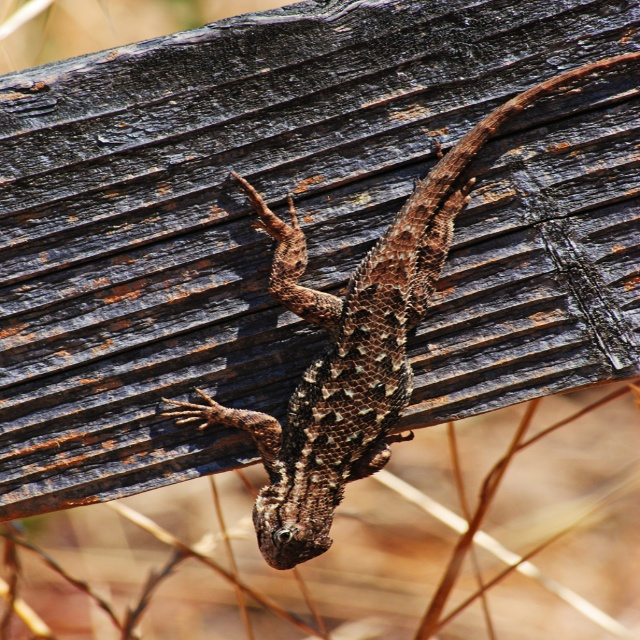Lizard: (161, 112, 572, 590)
